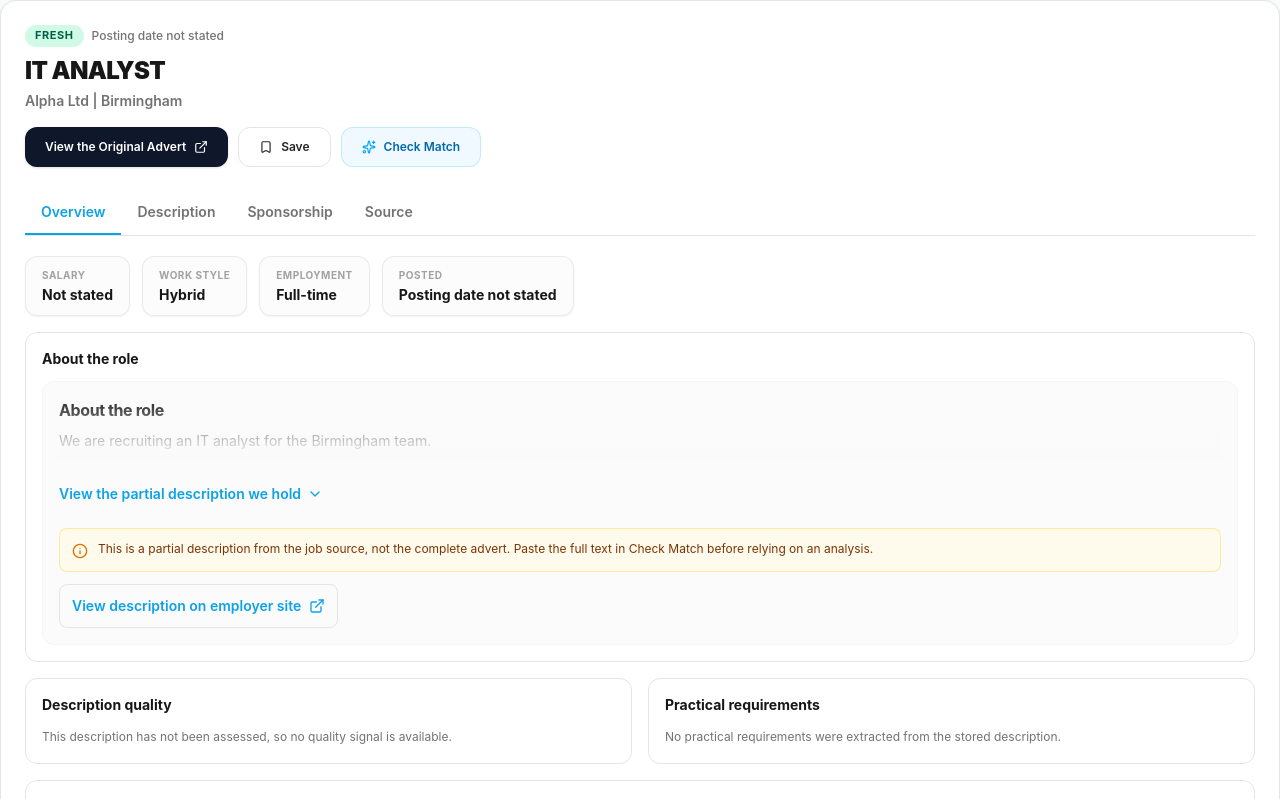
Test: Description tab rules › warns inside the Description tab that a partial excerpt is not the advert
The width and height of the screenshot is (1280, 799).
Click the tab "Description" at (176, 213), box x1=122 y1=191 x2=232 y2=235
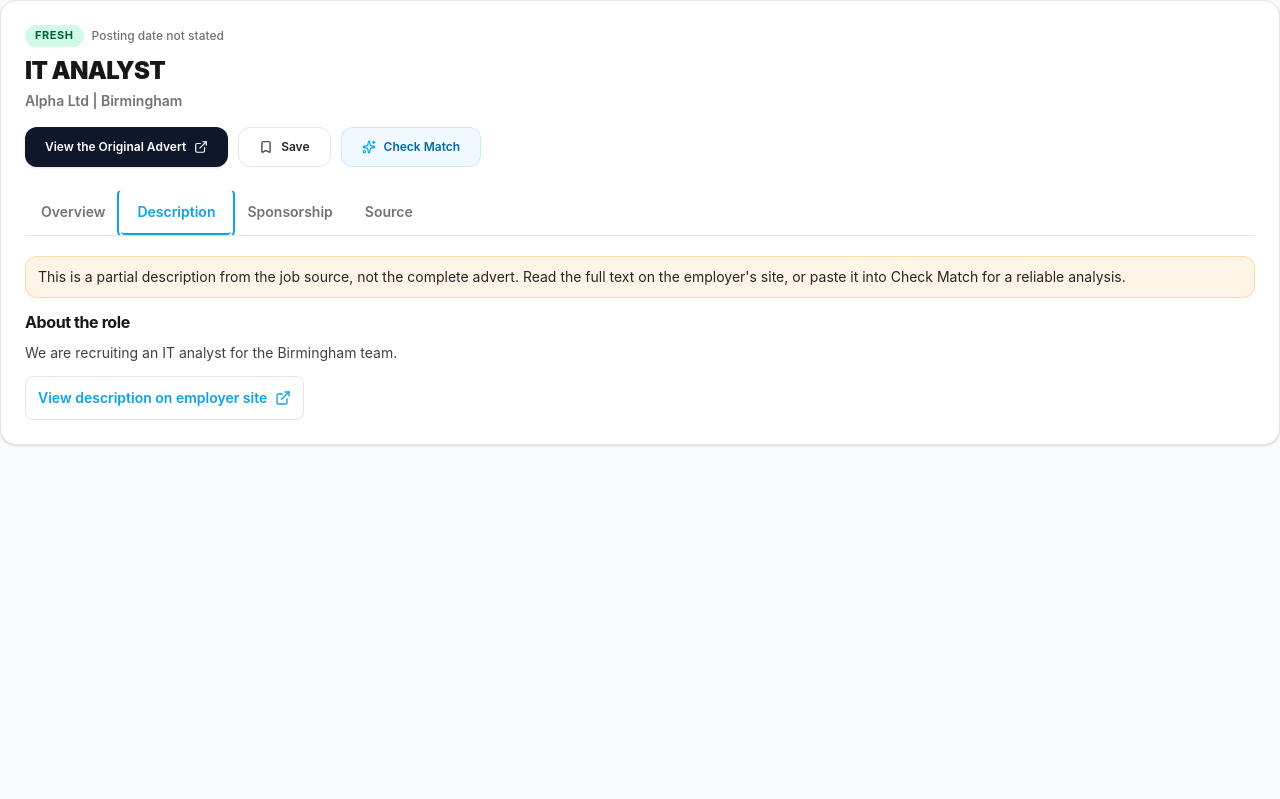
Expected: the text "partial description from the job source" is shown, x1=38 y1=268 x2=1126 y2=285
